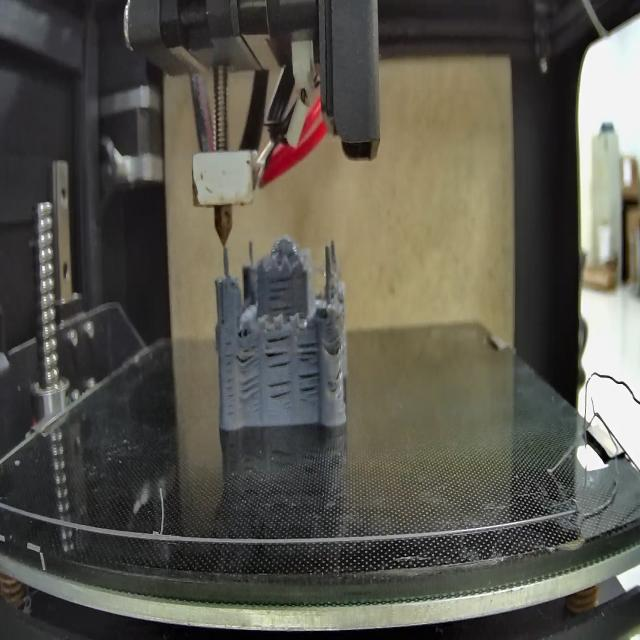cracks: (270, 269, 294, 315), (265, 331, 291, 372), (297, 370, 320, 403), (235, 341, 259, 372), (225, 340, 233, 420), (270, 378, 293, 405), (298, 336, 319, 364), (241, 377, 260, 405), (325, 328, 342, 357), (329, 369, 345, 392)
